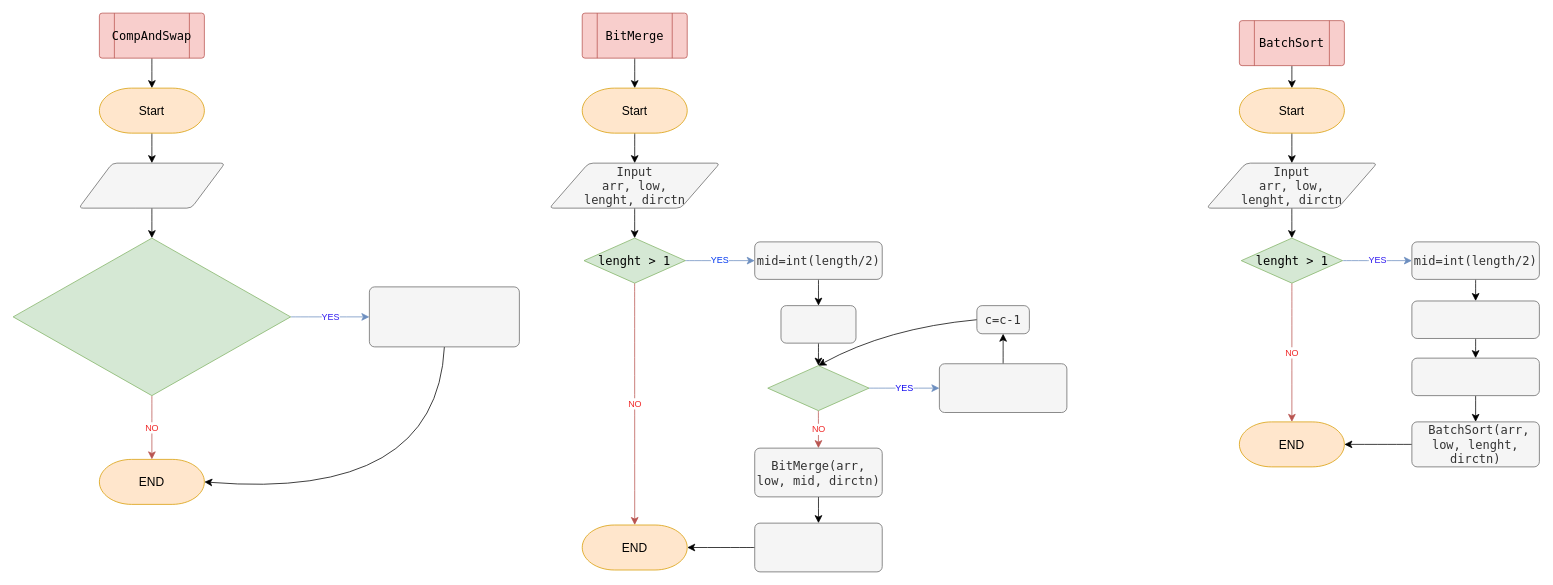
The diagram is 1553 pixels wide and 585 high, and some of its shapes have lost their labels. Here are the shapes that lost their labels. From the top down, the centre of each, then its label:
At point (151, 185): "Input arr, ind1, ind2, dirctn".
At point (151, 316): "(dirctn==1 && arr[ind1] > array[ind2]) || ( dirctn==0 && arr[ind1<arr[ind2] )".
At point (444, 316): "arr[ind1],arr[ind2] =arr[ind2],arr[ind1]".
At point (818, 324): "c = mid".
At point (1475, 319): "BatchSort(arr, low, mid, 1)".
At point (818, 388): "c > 1".
At point (1003, 387): "CompAndSwap(array, i, i+mid, dirctn)".
At point (1475, 376): "BatchSort(arr, low+mid, mid, 0)".
At point (818, 547): "BitMerge(arr, low+mid, mid, dirctn)".
